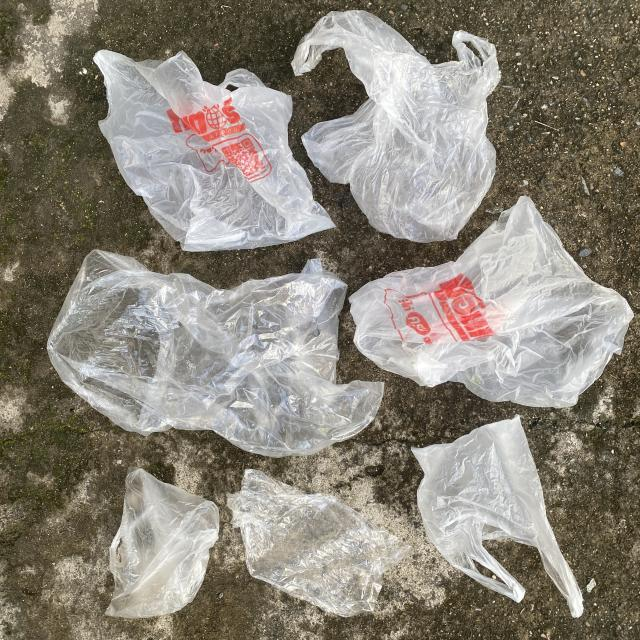Single-layer Plastic: (48, 250, 382, 458), (350, 196, 634, 408), (291, 11, 500, 242), (94, 50, 332, 251), (411, 416, 584, 618), (228, 469, 411, 616), (106, 468, 219, 619)
